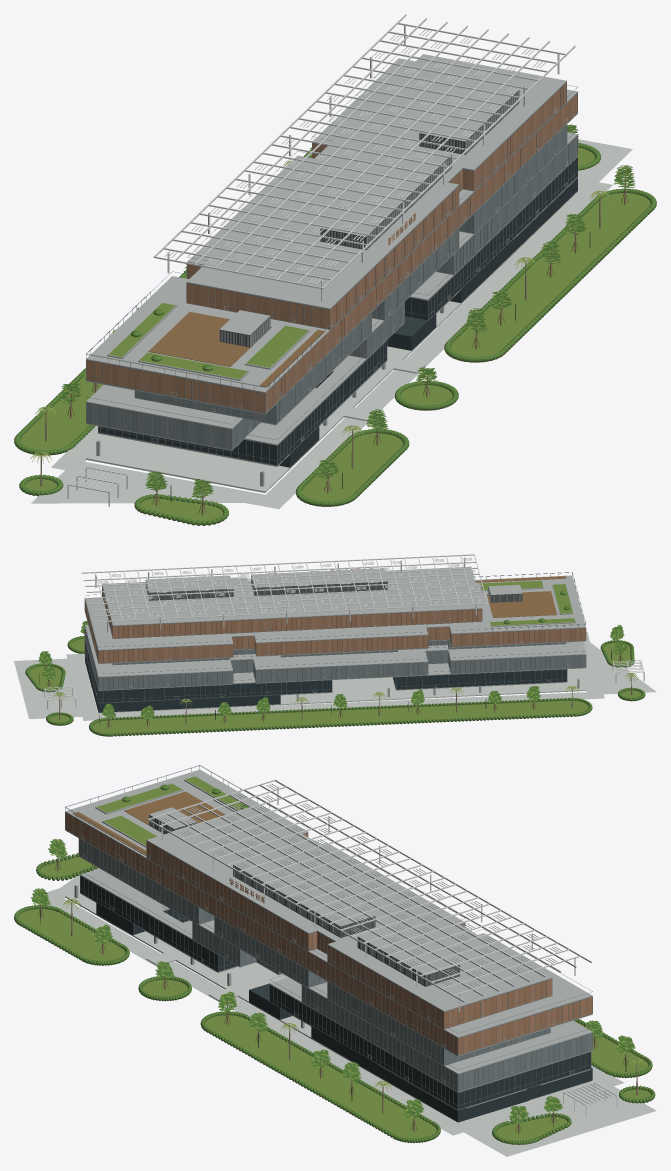
File: incubator-lod0.glb
3 renders of one model, top to bottom at view 1: azimuth 30°, elevation 25°; view 2: azimuth 150°, elevation 25°; view 3: azimuth 270°, elevation 25°, orthographic. The views are drawn at different scales.
Parts seen in each view (by area): view 1: separate floor plates and setback terraces | roof, white open rooftop framework | ivory metal, connected planted lawns | lawn, slender curtain wall mullions | rail, lower dark glazing | dark glass, site perimeter paving | pale paving, continuous low hedges | hedge, open stilt floor paving | pale paving, upper bronze reflective panels | bronze glass 2, upper bronze reflective panels | bronze glass 0, upper bronze reflective panels | bronze glass 1, middle silver glazing | silver glass 0 (+12 smaller); view 2: separate floor plates and setback terraces | roof, white open rooftop framework | ivory metal, slender curtain wall mullions | rail, connected planted lawns | lawn, lower dark glazing | dark glass, continuous low hedges | hedge, site perimeter paving | pale paving, upper bronze reflective panels | bronze glass 2, upper bronze reflective panels | bronze glass 1, upper bronze reflective panels | bronze glass 0, open stilt floor paving | pale paving, internal drive and court paving | pale paving (+12 smaller); view 3: separate floor plates and setback terraces | roof, white open rooftop framework | ivory metal, slender curtain wall mullions | rail, lower dark glazing | dark glass, connected planted lawns | lawn, site perimeter paving | pale paving, continuous low hedges | hedge, upper bronze reflective panels | bronze glass 2, upper bronze reflective panels | bronze glass 1, upper bronze reflective panels | bronze glass 0, middle silver glazing | silver glass 2, middle silver glazing | silver glass 0 (+12 smaller).
Part boxes in pixels (box(x1,y1,x2,y2)): separate floor plates and setback terraces | roof: box(86, 54, 577, 466); white open rooftop framework | ivory metal: box(67, 14, 575, 506); connected planted lawns | lawn: box(20, 147, 650, 521); slender curtain wall mullions | rail: box(86, 82, 577, 465); lower dark glazing | dark glass: box(98, 157, 577, 467); site perimeter paving | pale paving: box(51, 178, 612, 508); continuous low hedges | hedge: box(14, 143, 656, 525); open stilt floor paving | pale paving: box(86, 191, 577, 492); upper bronze reflective panels | bronze glass 2: box(95, 83, 574, 412); upper bronze reflective panels | bronze glass 0: box(86, 86, 571, 410); upper bronze reflective panels | bronze glass 1: box(103, 89, 577, 412); middle silver glazing | silver glass 0: box(86, 125, 574, 447); separate floor plates and setback terraces | roof: box(85, 566, 585, 695); white open rooftop framework | ivory metal: box(44, 554, 644, 708); slender curtain wall mullions | rail: box(84, 586, 586, 703); connected planted lawns | lawn: box(29, 638, 641, 733); lower dark glazing | dark glass: box(85, 641, 566, 712); continuous low hedges | hedge: box(25, 635, 645, 736); site perimeter paving | pale paving: box(66, 632, 604, 720); upper bronze reflective panels | bronze glass 2: box(85, 593, 580, 662); upper bronze reflective panels | bronze glass 1: box(86, 589, 585, 662); upper bronze reflective panels | bronze glass 0: box(85, 586, 575, 662); open stilt floor paving | pale paving: box(92, 668, 585, 713); internal drive and court paving | pale paving: box(14, 642, 656, 718); separate floor plates and setback terraces | roof: box(65, 769, 592, 1110); white open rooftop framework | ivory metal: box(147, 779, 617, 1117); slender curtain wall mullions | rail: box(65, 812, 592, 1109); lower dark glazing | dark glass: box(80, 876, 592, 1122); connected planted lawns | lawn: box(18, 857, 651, 1140); site perimeter paving | pale paving: box(46, 882, 624, 1135); continuous low hedges | hedge: box(14, 853, 655, 1144); upper bronze reflective panels | bronze glass 2: box(65, 813, 586, 1053); upper bronze reflective panels | bronze glass 1: box(69, 815, 592, 1054); upper bronze reflective panels | bronze glass 0: box(73, 818, 579, 1054); middle silver glazing | silver glass 2: box(87, 843, 592, 1090); middle silver glazing | silver glass 0: box(83, 841, 586, 1091).
Size of the model in its own units: 167 by 29.13 by 135.
